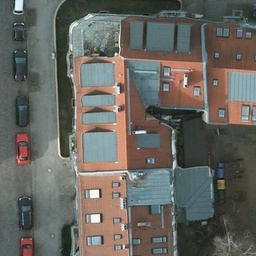car: (15, 133, 31, 164), (15, 93, 30, 124), (18, 197, 32, 229), (13, 48, 26, 82), (10, 20, 25, 45), (21, 236, 34, 256), (12, 1, 25, 16)
